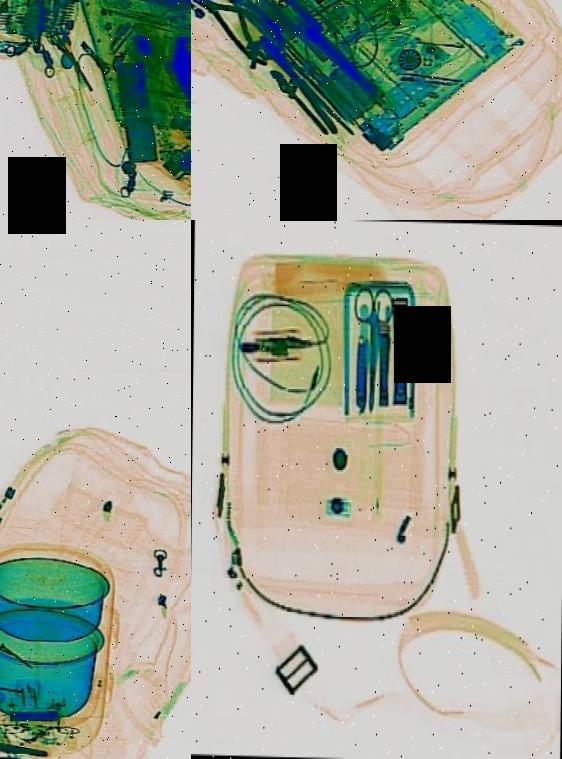Pliers: (191, 0, 292, 70), (0, 727, 54, 759)
Scissors: (352, 283, 393, 409)
